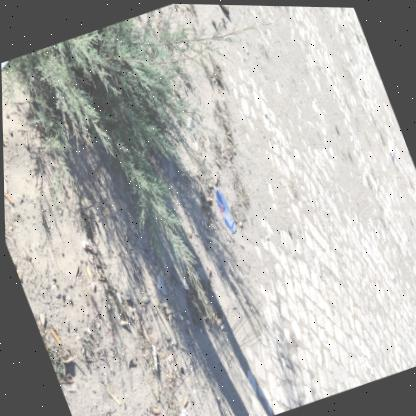Metal: (214, 187, 234, 233)
Paper: (386, 139, 396, 167)
Waste: (79, 239, 94, 252), (47, 327, 58, 344), (162, 356, 170, 377), (149, 344, 154, 371), (3, 193, 11, 205), (164, 352, 171, 363), (147, 407, 157, 414), (178, 409, 187, 416), (214, 317, 220, 324), (181, 277, 184, 290), (194, 143, 197, 153), (179, 278, 182, 287), (212, 177, 215, 184), (218, 323, 221, 329), (356, 98, 359, 104), (205, 196, 209, 200), (231, 147, 234, 152)
